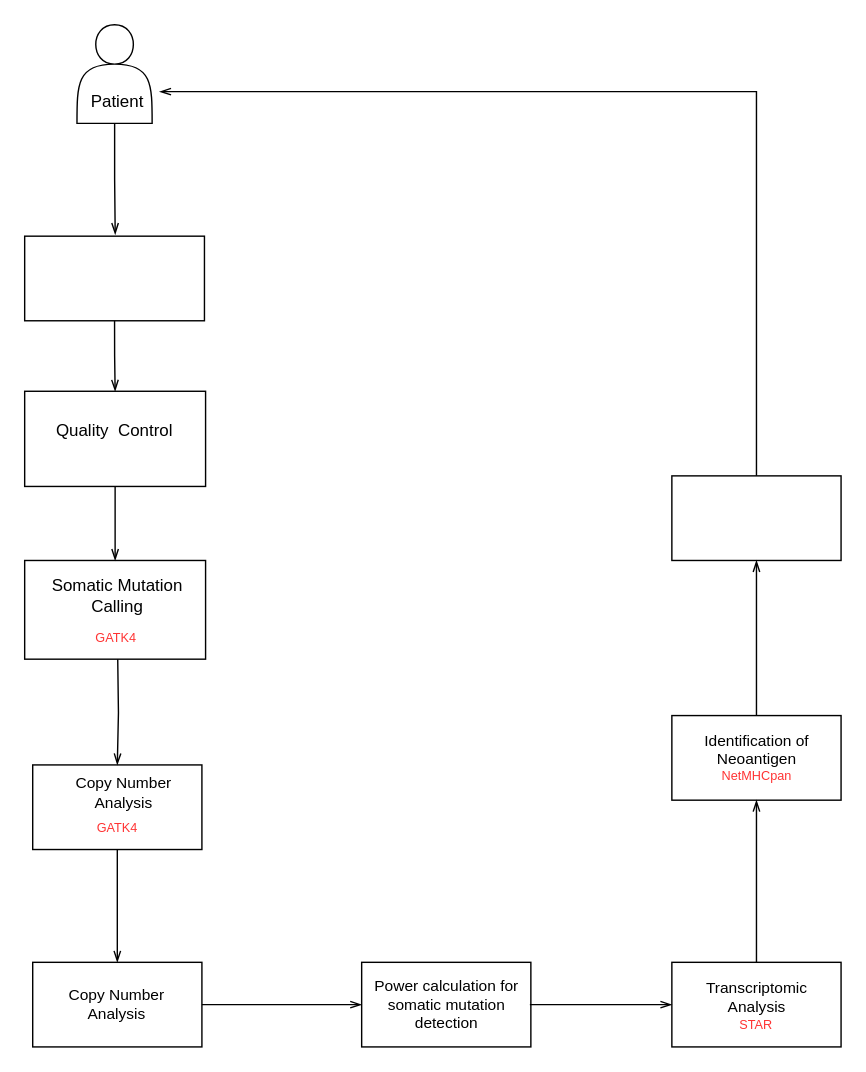
This 866x1072 diagram has some shape labels left out. The shapes that lost their labels are listed below. From the top down, each one's centre as x and y in pixels, then its label:
the point at 113,278: WES&RNA seq
the point at 755,517: Synthesis of long peptides
